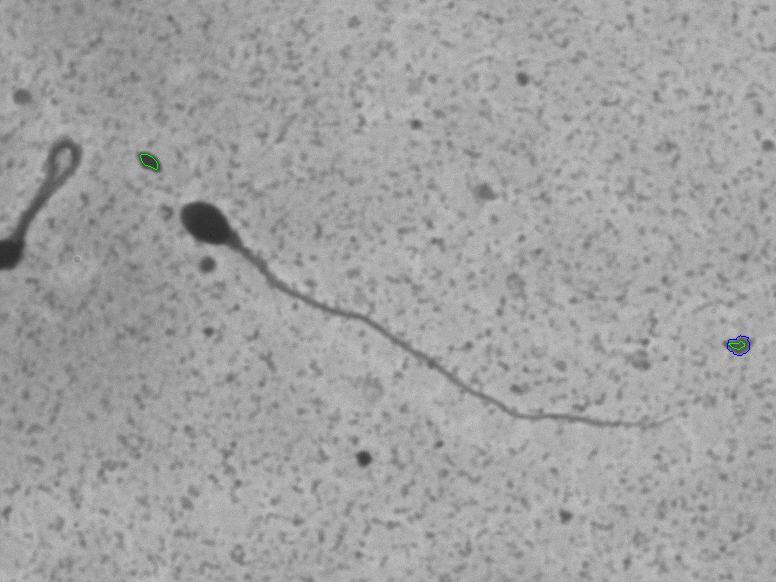Normal: (166, 146, 661, 456)
